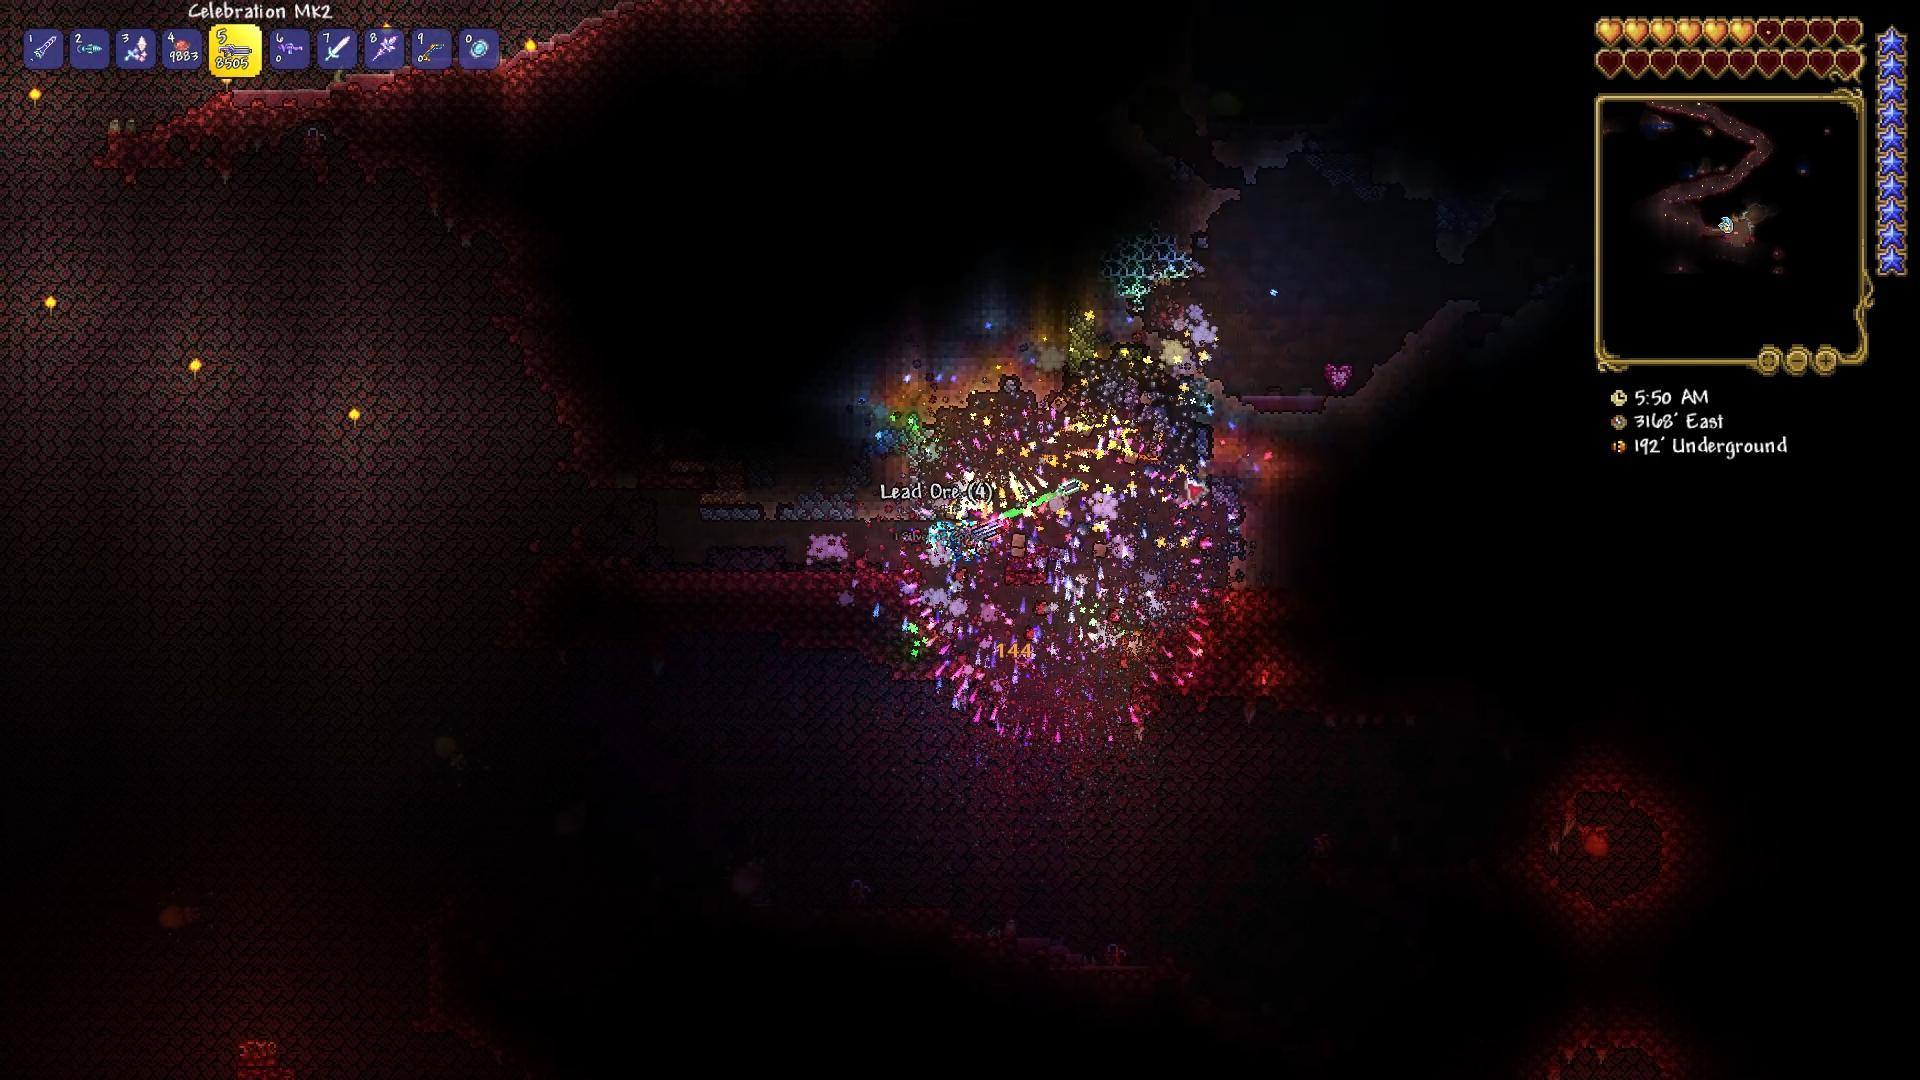mirror: (467, 33, 493, 62)
